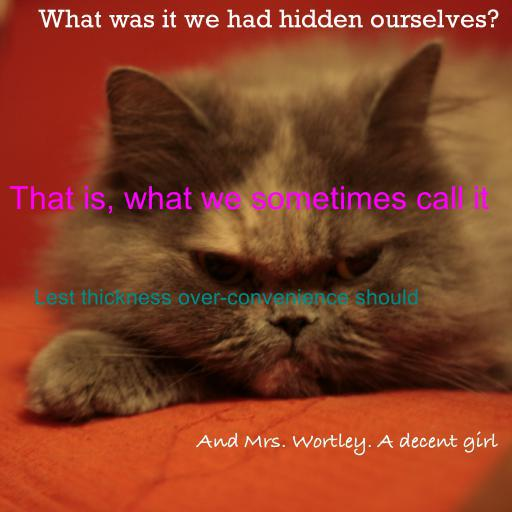Arial: (9, 186, 489, 214), (33, 289, 419, 305)
Bradley Hand: (196, 431, 498, 456)
Rockwell: (37, 9, 499, 28)
